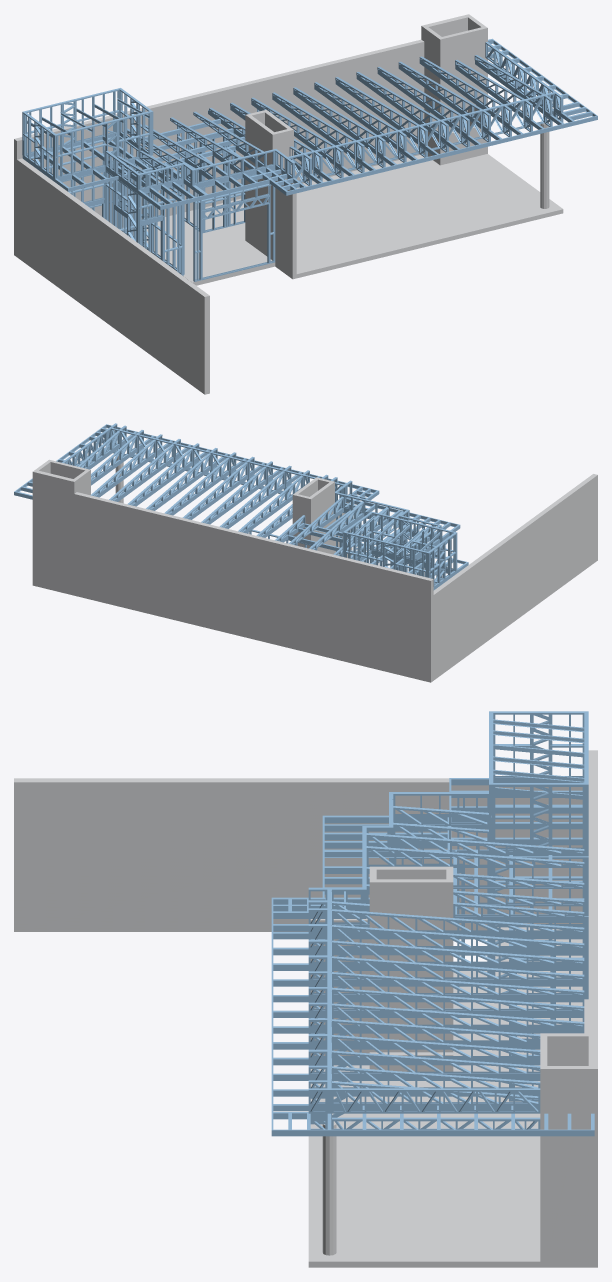
Rendered from projeto2.glb.
3 views of the same model, one above another, from view 1: azimuth 30°, elevation 25°; view 2: azimuth 150°, elevation 25°; view 3: azimuth 270°, elevation 25° (orthographic). The views are drawn at different scales.
Visible parts, largest first — view 1: Fake; view 2: Fake; view 3: Fake.
Boxes of the visible parts, x1,y1,x2,y2 form: Fake: (14, 14, 597, 394); Fake: (14, 423, 597, 682); Fake: (14, 711, 597, 1267).
Size of the model in its own units: 18.14 by 5.24 by 12.56.
